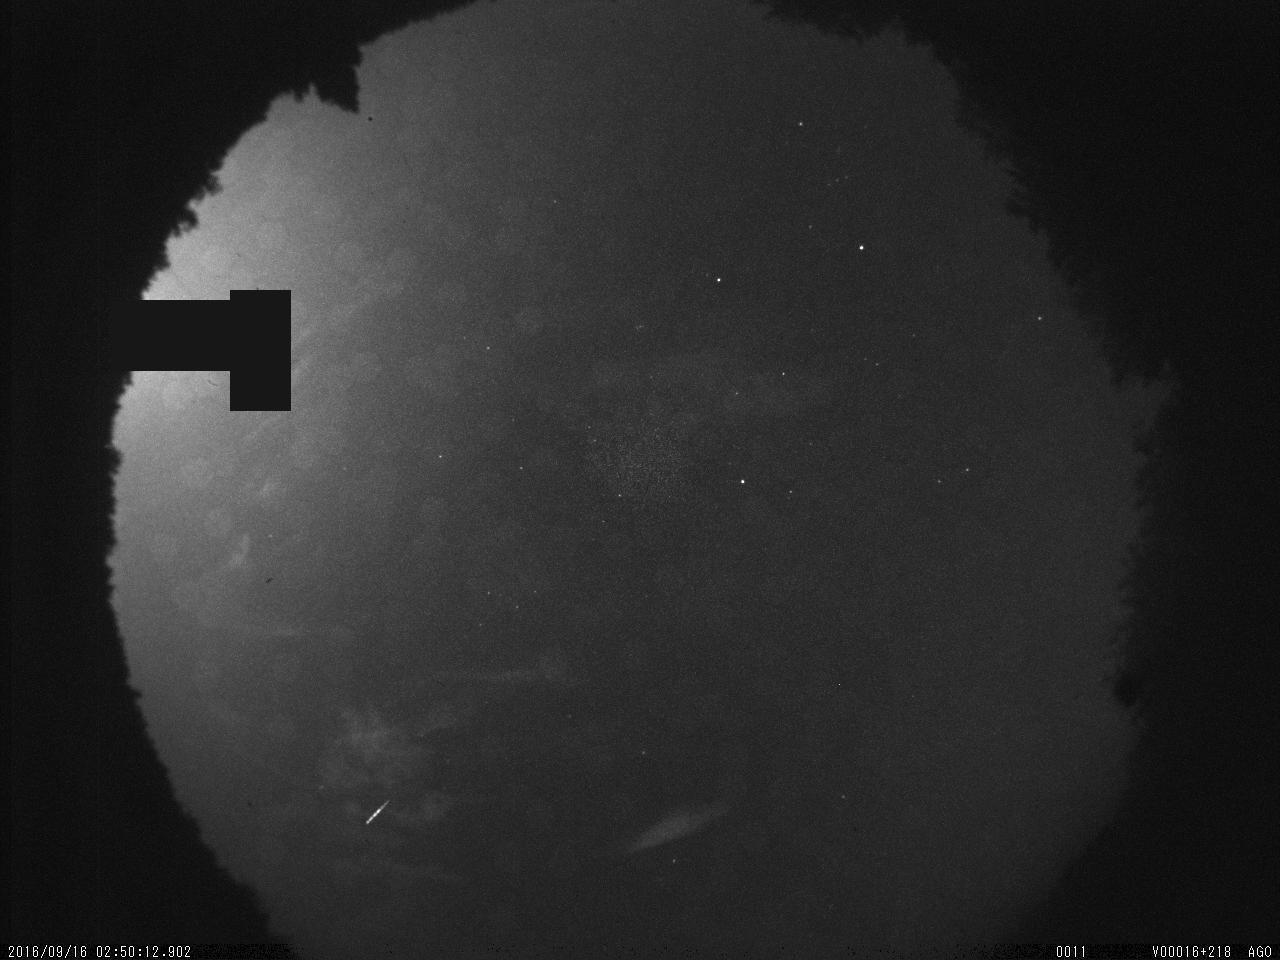Meteor: (363, 797, 390, 825)
